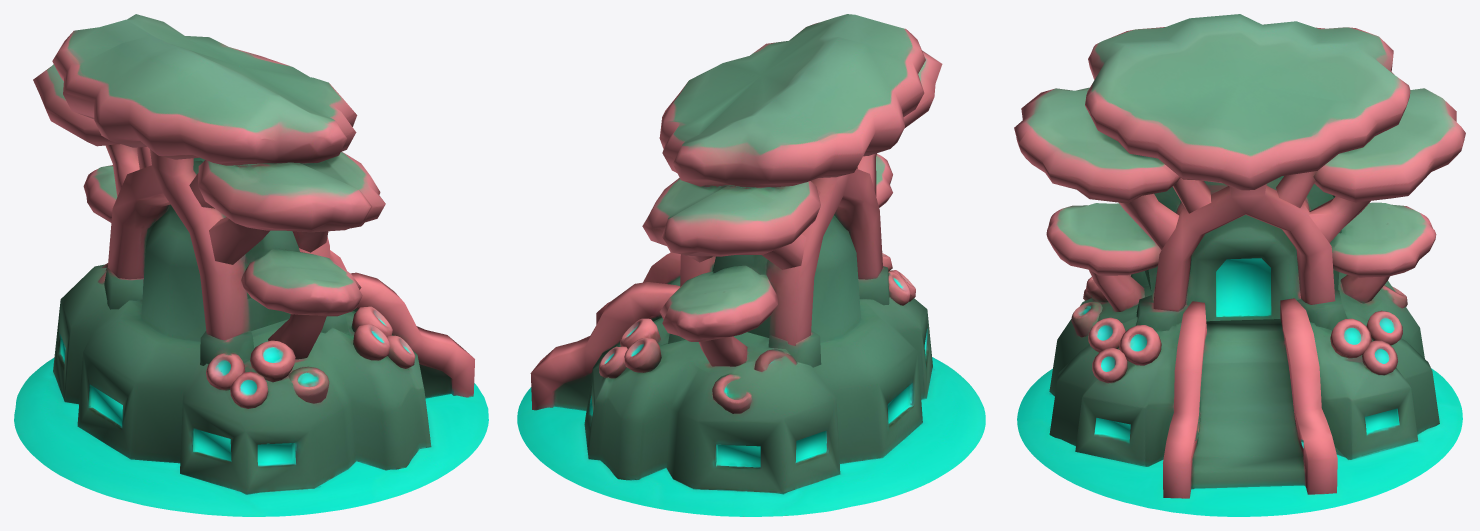
File: water_pearl_depot.glb
3 renders of one model, left to right at view 1: azimuth 30°, elevation 25°; view 2: azimuth 150°, elevation 25°; view 3: azimuth 270°, elevation 25°, orthographic. The views are drawn at different scales.
Parts seen in each view (by area): view 1: tripo_node_303a0b62-e531-493d-87f7-679e7b32b8bc; view 2: tripo_node_303a0b62-e531-493d-87f7-679e7b32b8bc; view 3: tripo_node_303a0b62-e531-493d-87f7-679e7b32b8bc.
Boxes of the visible parts, x1,y1,x2,y2 form: tripo_node_303a0b62-e531-493d-87f7-679e7b32b8bc: (14, 14, 488, 516); tripo_node_303a0b62-e531-493d-87f7-679e7b32b8bc: (517, 14, 985, 516); tripo_node_303a0b62-e531-493d-87f7-679e7b32b8bc: (1014, 14, 1465, 516).
Size of the model in its own units: 0.9917 by 0.895 by 0.9995.
1 material, 1 textured.
